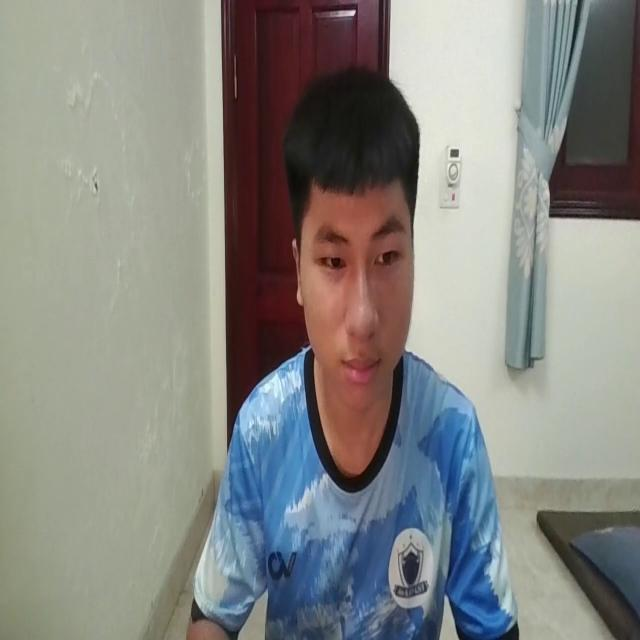student: (191, 62, 517, 640)
